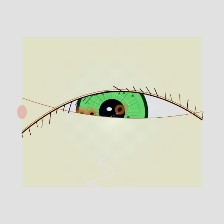foreign_body_visible: (107, 99, 133, 120)
